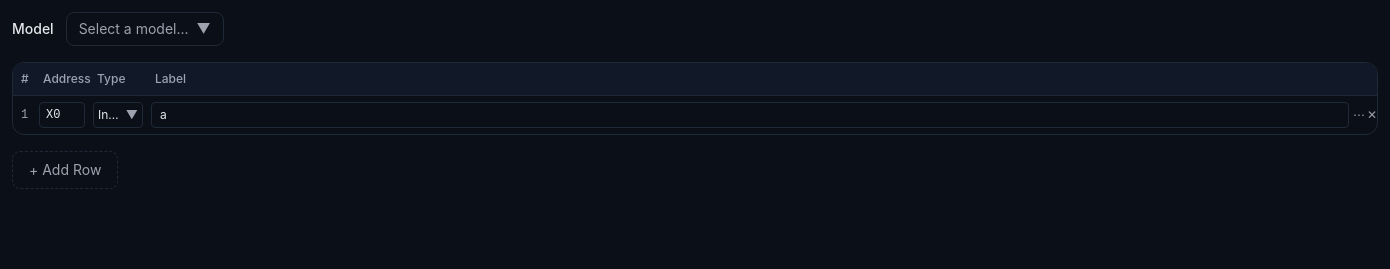
it: IOMappingTable › expandable row (M12.1.2) › hides the inputs again on second click
Click the button with test id "io-more-0".
click(1359, 115)  # box [1353,103,1365,127]
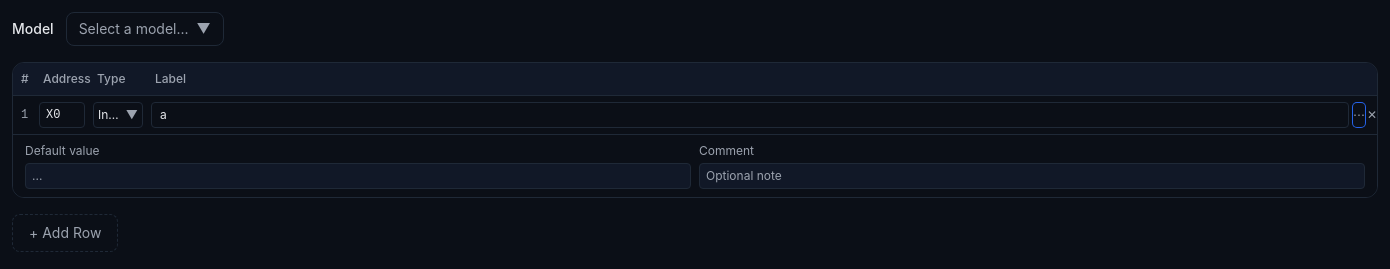
Click the button with test id "io-more-0".
click(1359, 115)  # box [1353,103,1365,127]
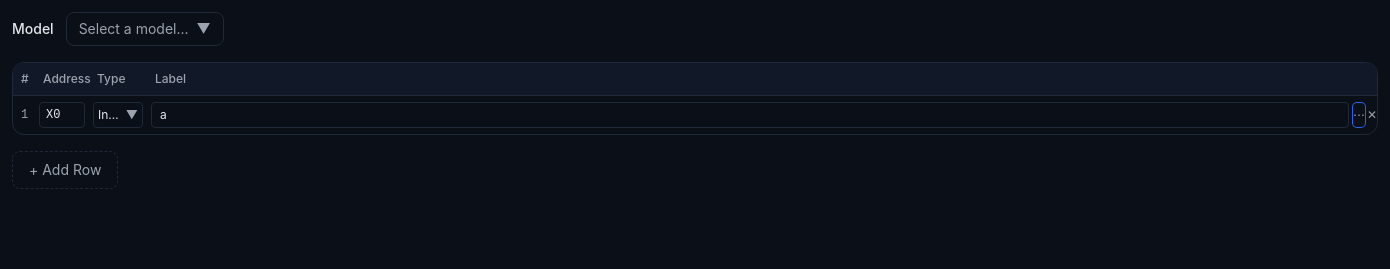
expect the row with test id "io-more-row-0" is gone: met
expect the field with test id "io-default-0" is gone: met
expect the field with test id "io-comment-0" is gone: met
